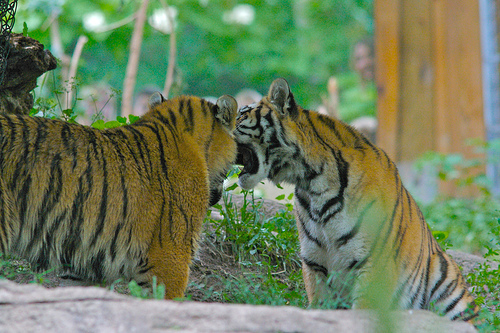Tigre: (234, 99, 454, 333)
